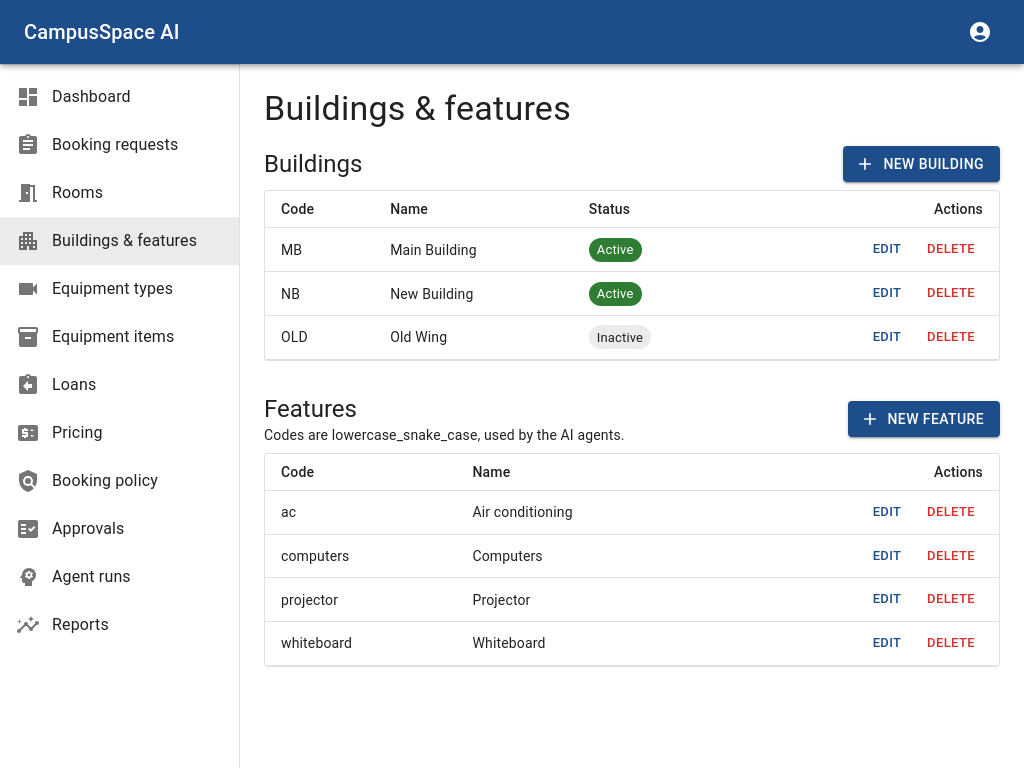
Scenario: ReferencePage › shows a duplicate building code under the code field
Click the button "New building" at (922, 164), box [843, 146, 1000, 182]
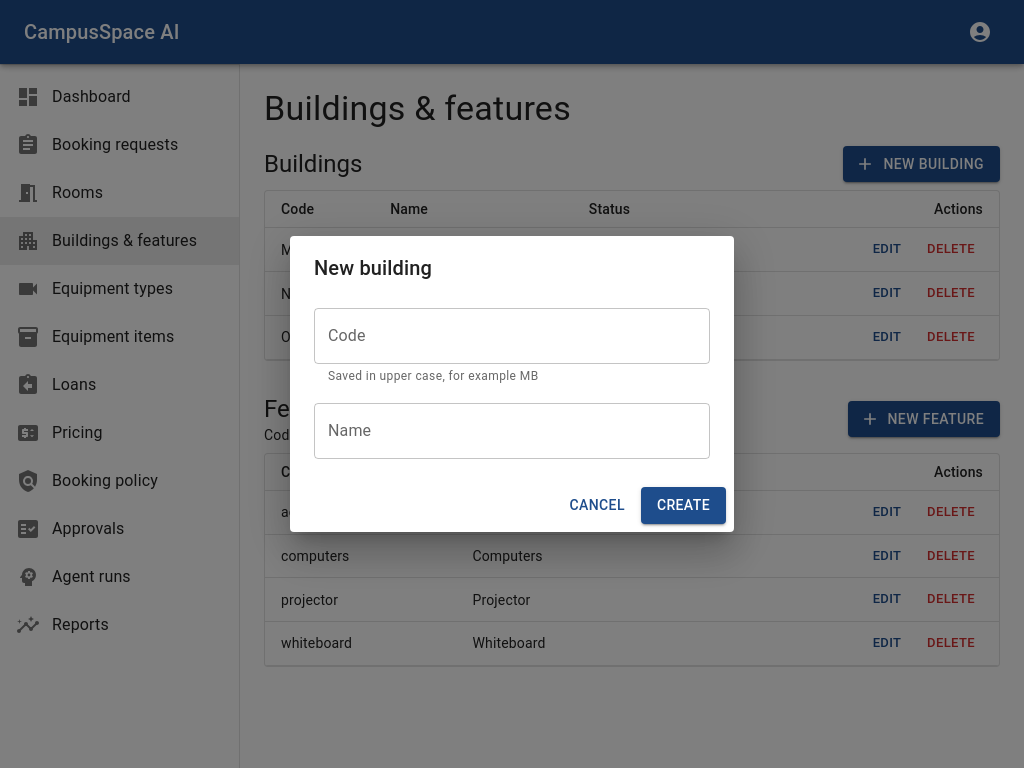
Type "mb" into the field labelled "Code" at (512, 336), box [314, 308, 710, 364]
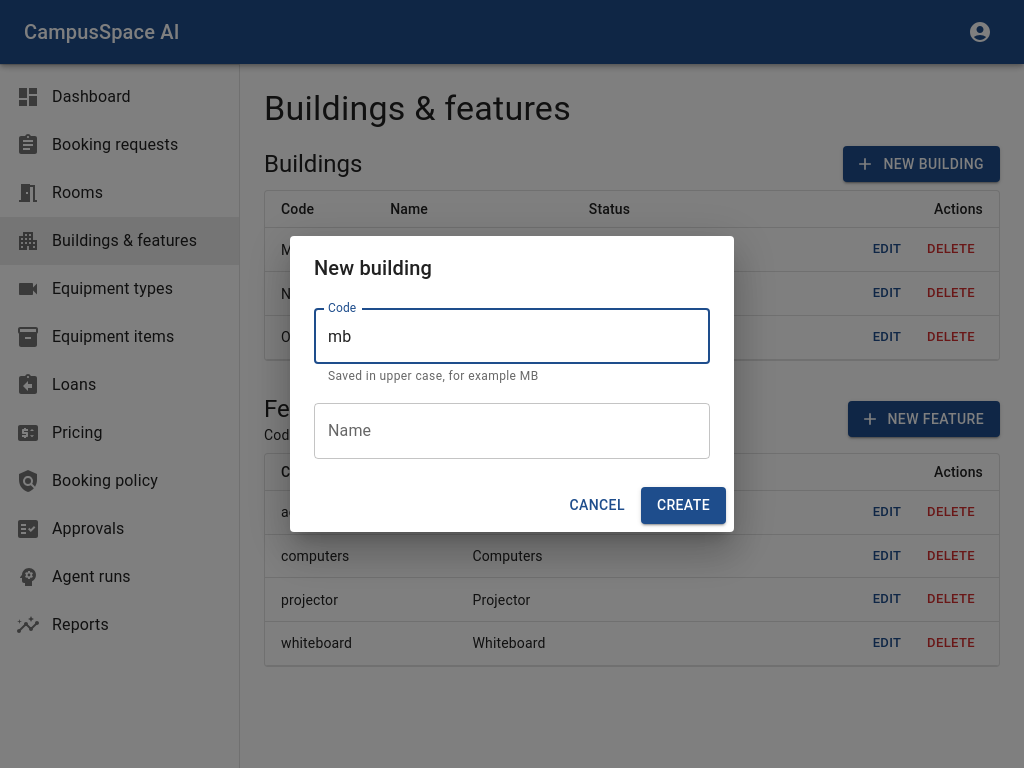
Type "Main again" into the field labelled "Name" at (512, 431), box [314, 403, 710, 459]
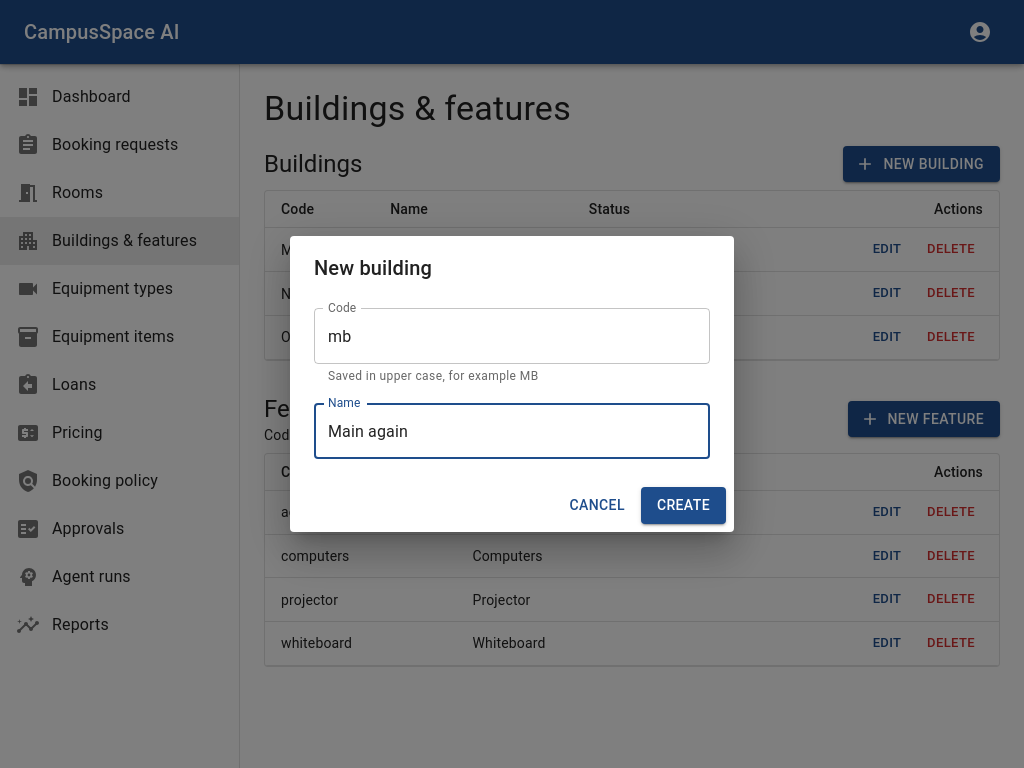
Click the button "Create" at (683, 505), box [641, 487, 726, 524]
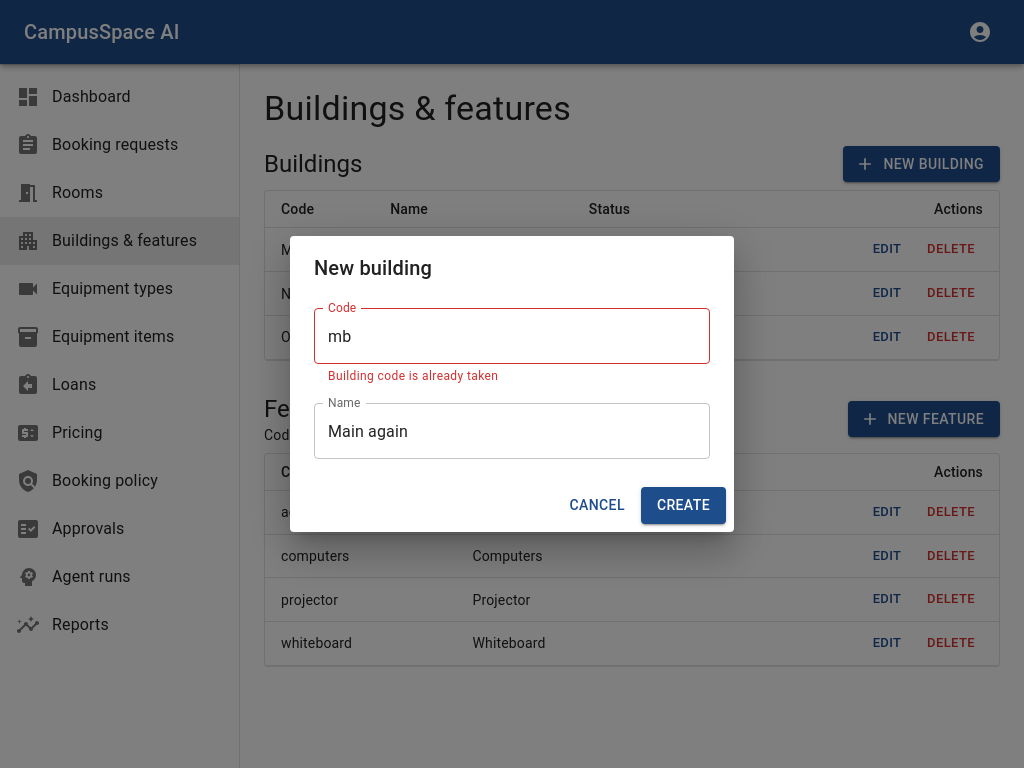
Expected: the text "Building code is already taken" is shown, [328, 369, 498, 383]
